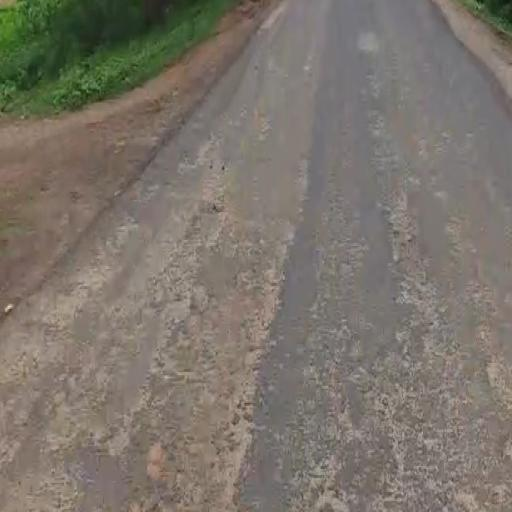ravelling: (73, 212, 414, 491)
